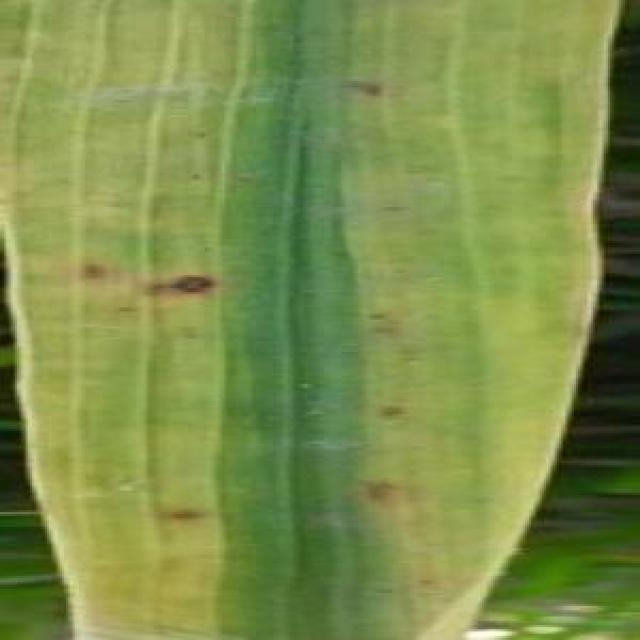Brown_Spot: (143, 266, 225, 316), (358, 472, 426, 524), (343, 63, 393, 108), (370, 299, 406, 358), (72, 251, 120, 293), (379, 383, 412, 426), (159, 506, 199, 528)
